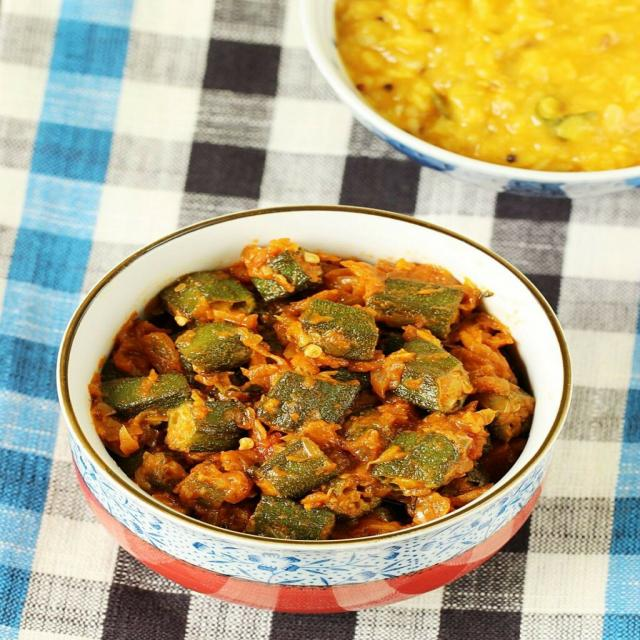BhindiMasala: (90, 238, 536, 540)
